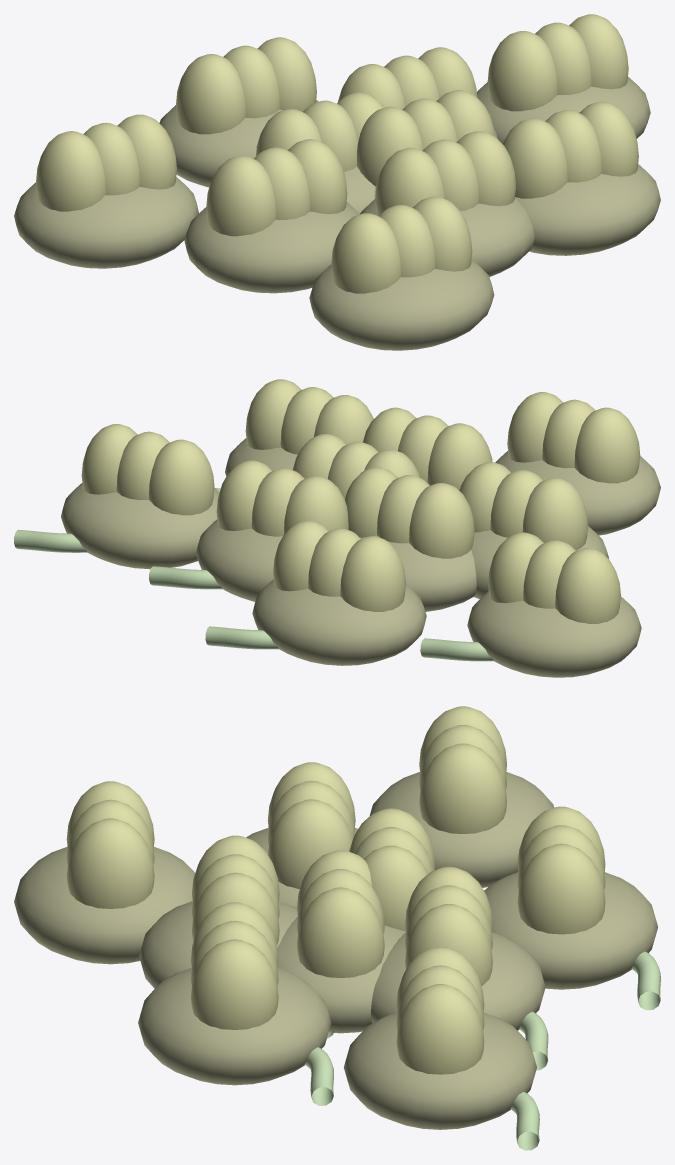
File: bio_acid_mat_01_near.glb
The picture shows the model from 3 angles, top to bottom: view 1: azimuth 30°, elevation 25°; view 2: azimuth 150°, elevation 25°; view 3: azimuth 270°, elevation 25°; orthographic projection. The views are drawn at different scales.
Parts seen in each view (by area): view 1: Microbial cushion.007, Microbial cushion.009, Reaction vesicle.021, Reaction vesicle.024, Reaction vesicle.027, Reaction vesicle.012, Reaction vesicle.018, Microbial cushion.004, Reaction vesicle.015, Microbial cushion.005, Reaction vesicle.006, Reaction vesicle (+6 smaller); view 2: Microbial cushion.006, Microbial cushion.009, Reaction vesicle.021, Reaction vesicle.024, Reaction vesicle.027, Reaction vesicle.018, Microbial cushion.008, Reaction vesicle.003, Reaction vesicle.012, Reaction vesicle.009, Reaction vesicle.015, Reaction vesicle.006 (+10 smaller); view 3: Microbial cushion.008, Microbial cushion.005, Microbial cushion.007, Microbial cushion.006, Reaction vesicle.018, Reaction vesicle.015, Reaction vesicle.021, Reaction vesicle.024, Reaction vesicle.027, Reaction vesicle, Reaction vesicle.012, Microbial cushion.009 (+11 smaller).
Boxes of the visible parts, box(x1,y1,x2,y2) form: Microbial cushion.007: box(309, 259, 494, 350); Microbial cushion.009: box(14, 177, 198, 268); Reaction vesicle.021: box(331, 196, 472, 293); Reaction vesicle.024: box(487, 14, 628, 111); Reaction vesicle.027: box(36, 114, 176, 211); Reaction vesicle.012: box(206, 139, 347, 236); Reaction vesicle.018: box(176, 37, 316, 134); Microbial cushion.004: box(184, 202, 359, 293); Reaction vesicle.015: box(503, 101, 638, 198); Microbial cushion.005: box(515, 164, 660, 255); Reaction vesicle.006: box(375, 131, 515, 215); Reaction vesicle: box(357, 90, 495, 186); Microbial cushion.006: box(252, 579, 426, 665); Microbial cushion.009: box(467, 591, 641, 677); Reaction vesicle.021: box(507, 392, 640, 483); Reaction vesicle.024: box(81, 424, 214, 515); Reaction vesicle.027: box(488, 532, 620, 623); Reaction vesicle.018: box(273, 520, 405, 611); Microbial cushion.008: box(61, 483, 219, 569); Reaction vesicle.003: box(345, 467, 474, 558); Reaction vesicle.012: box(459, 462, 588, 550); Reaction vesicle.009: box(216, 460, 348, 536); Reaction vesicle.015: box(245, 379, 373, 454); Reaction vesicle.006: box(363, 407, 492, 490); Microbial cushion.008: box(343, 1012, 536, 1129); Microbial cushion.005: box(138, 968, 331, 1085); Microbial cushion.007: box(14, 846, 195, 964); Microbial cushion.006: box(484, 872, 657, 989); Reaction vesicle.018: box(517, 806, 605, 934); Reaction vesicle.015: box(190, 902, 278, 1029); Reaction vesicle.021: box(66, 781, 154, 908); Reaction vesicle.024: box(396, 947, 484, 1074); Reaction vesicle.027: box(419, 706, 506, 833); Reaction vesicle: box(297, 850, 384, 977); Reaction vesicle.012: box(267, 762, 355, 889); Microbial cushion.009: box(369, 772, 554, 887).
Size of the model in its own units: 1.83 by 0.36 by 1.47.
